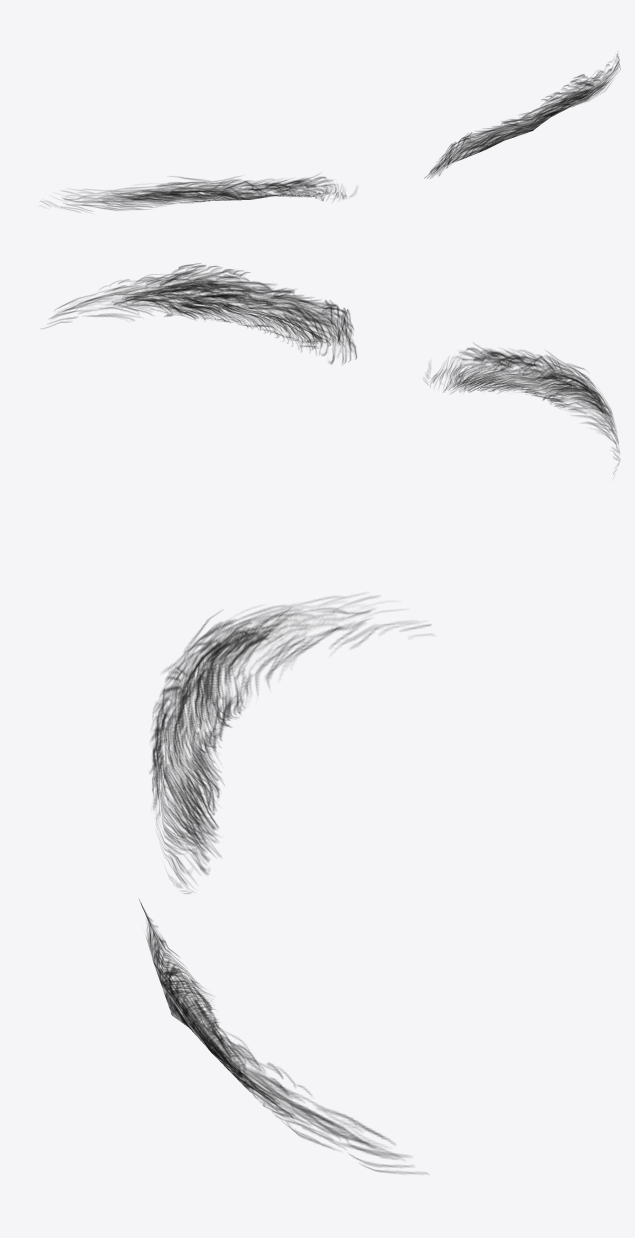
The model's file is brows_eyebrow012.gltf.
The picture shows the model from 3 angles, top to bottom: view 1: azimuth 30°, elevation 25°; view 2: azimuth 150°, elevation 25°; view 3: azimuth 270°, elevation 25°; orthographic projection. The views are drawn at different scales.
Parts seen in each view (by area): view 1: brows_eyebrow012; view 2: brows_eyebrow012; view 3: brows_eyebrow012.
Boxes of the visible parts, left/top/right/bottom form: brows_eyebrow012: left=40, top=54, right=620, bottom=211; brows_eyebrow012: left=46, top=263, right=619, bottom=473; brows_eyebrow012: left=139, top=596, right=430, bottom=1173.
Size of the model in its own units: 0.1191 by 0.0171 by 0.0317.
Materials: 1 (1 with a texture image).
